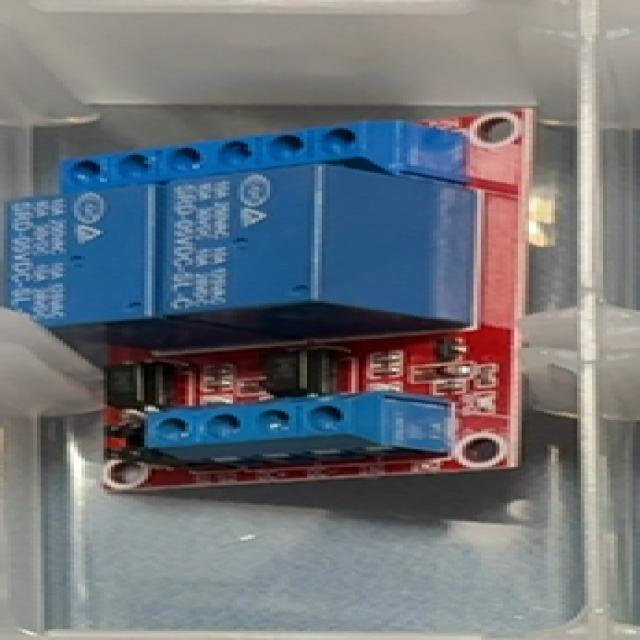Relay: (24, 110, 541, 488)
